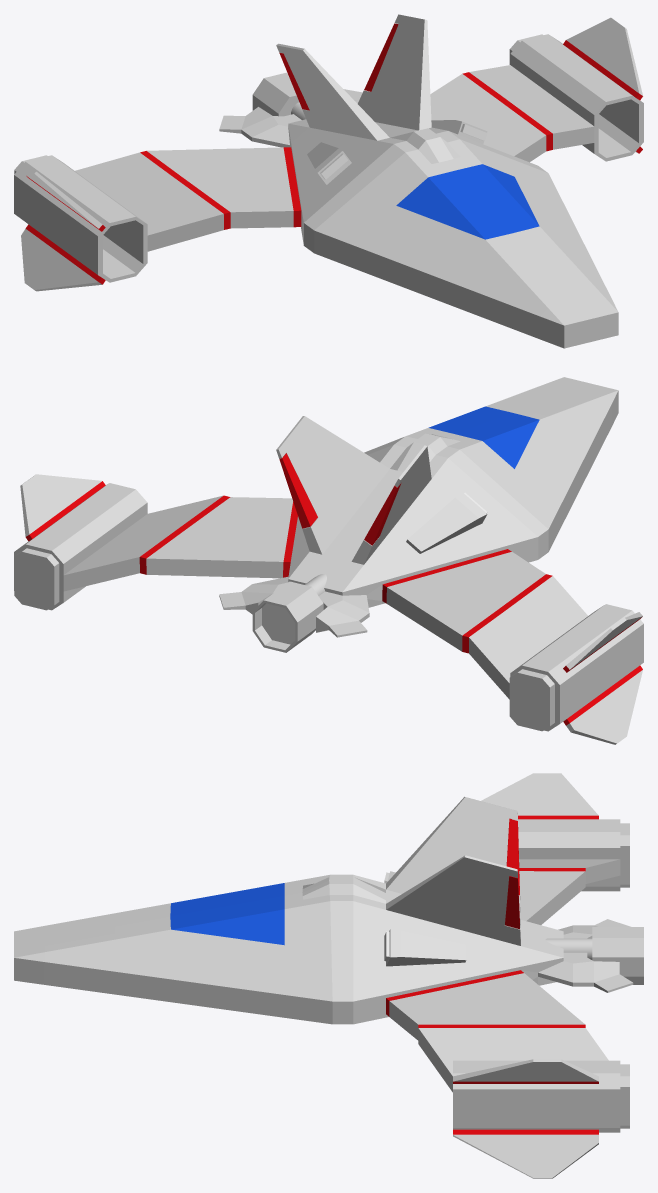
3 views of the same model, one above another, from view 1: azimuth 30°, elevation 25°; view 2: azimuth 150°, elevation 25°; view 3: azimuth 270°, elevation 25° (orthographic).
Visible parts, largest first — view 1: poly-lp; view 2: poly-lp; view 3: poly-lp.
Part boxes in pixels (x1,y1,x2,y2): poly-lp: (14,14,643,348); poly-lp: (14,377,643,744); poly-lp: (14,773,643,1178).
Bounding box in the file's own units: 1091 × 370 × 1009.
